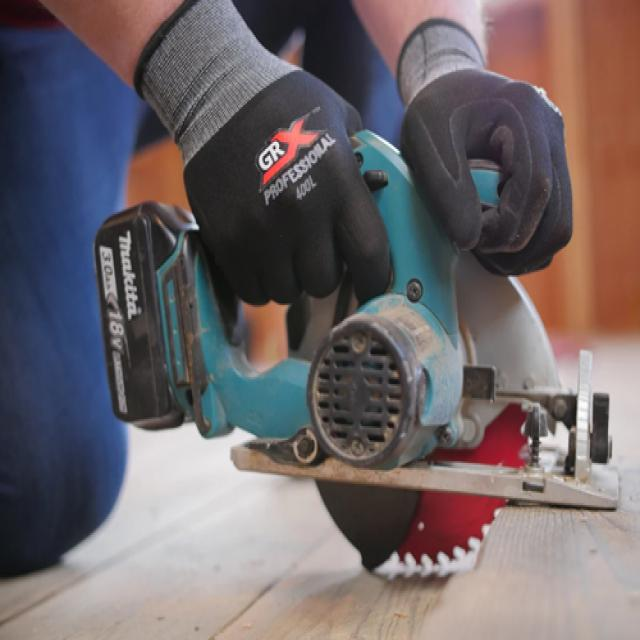gloves: (132, 0, 395, 309), (393, 9, 573, 272)
